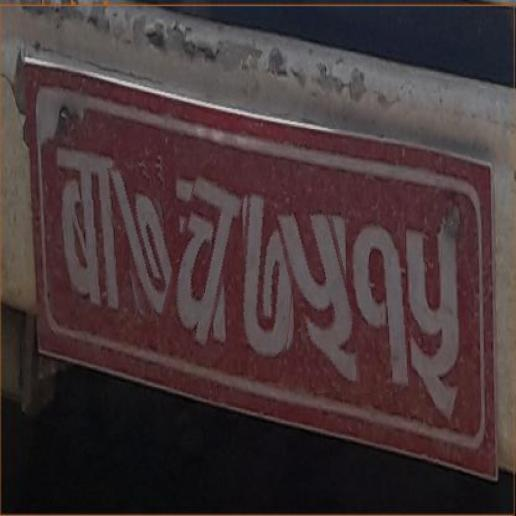1: (350, 221, 409, 393)
5: (284, 201, 360, 393), (406, 224, 466, 414)
7: (235, 191, 298, 358), (115, 161, 176, 323)
ba: (54, 141, 121, 315)
cha: (165, 175, 238, 348)
